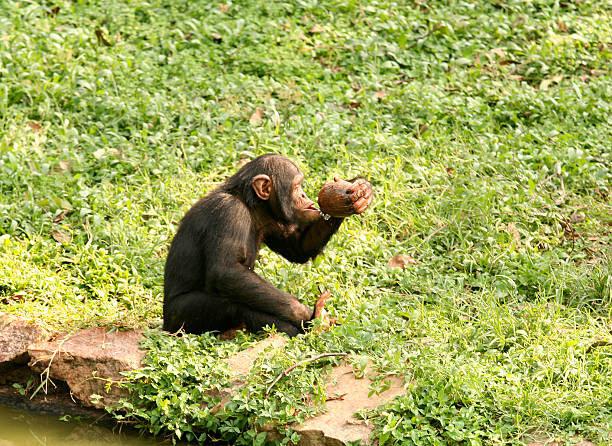chimpanzee: (236, 140, 320, 234)
